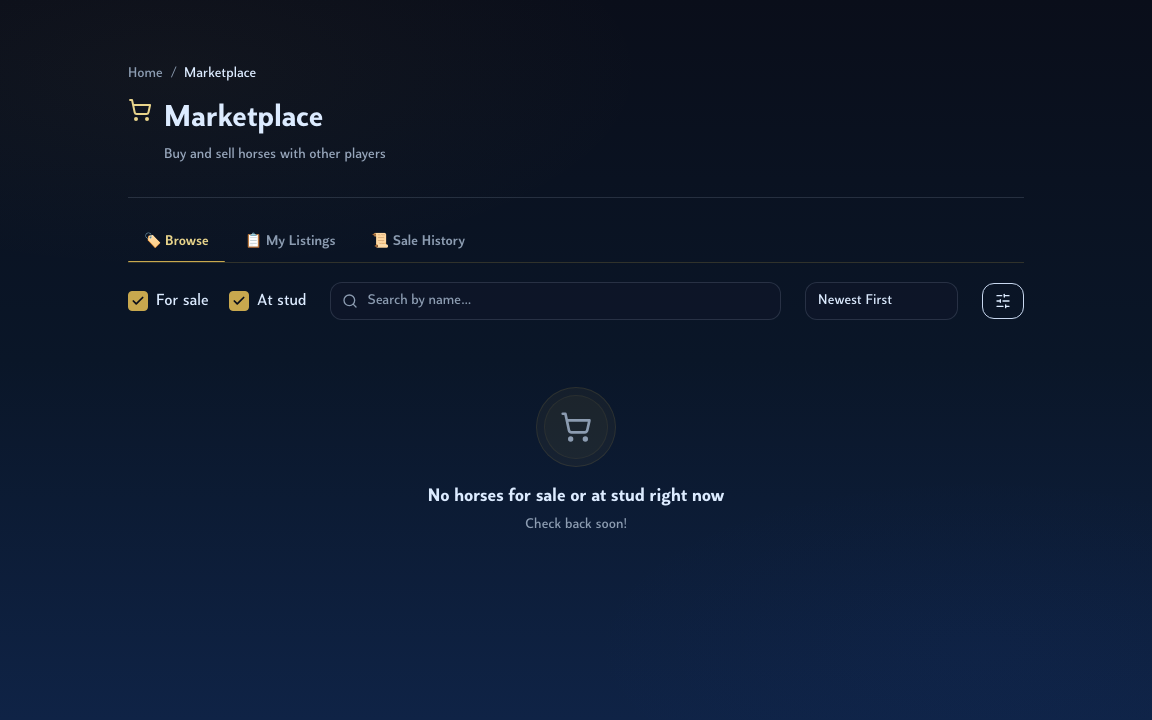
Test: HorseMarketplacePage — My Listings / Sale History tabs (Equoria-o5hub.30) › Sale History tab renders completed transactions
Click the tab with test id "tab-history": (418, 242) [356, 222, 481, 262]
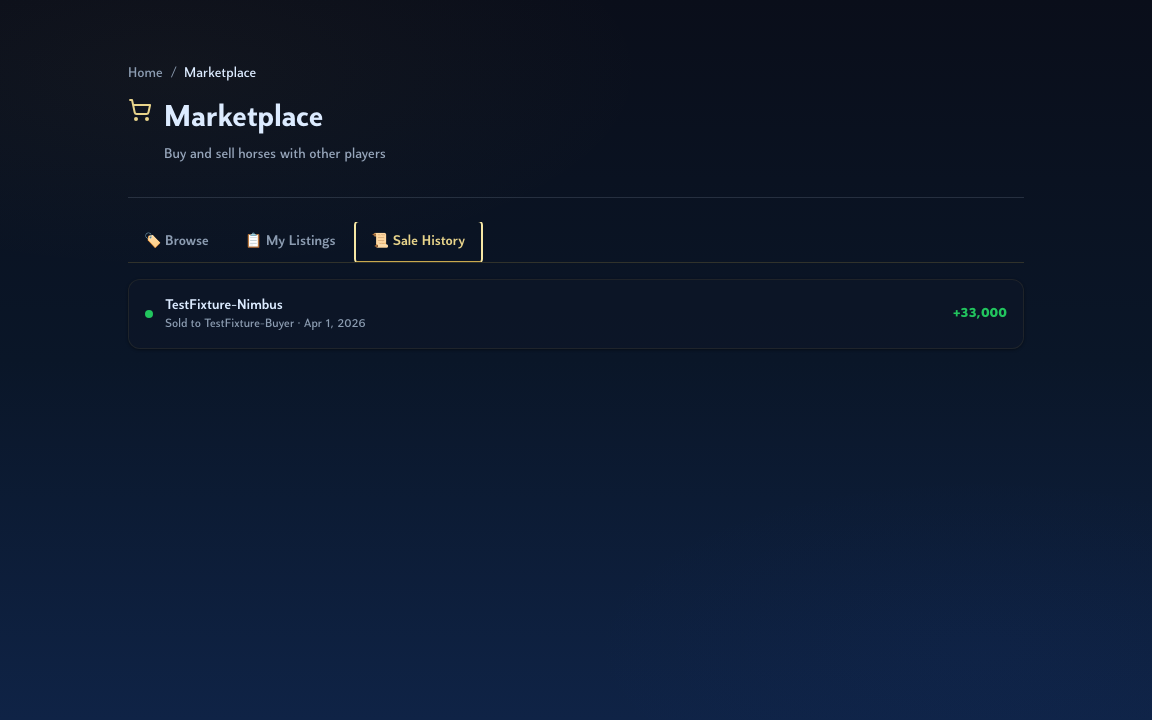
Check: the text "TestFixture-Nimbus" is shown, box [165, 298, 283, 313]
Check: the text "Sold to TestFixture-Buyer · Apr 1, 2026" is shown, box [165, 318, 366, 330]
